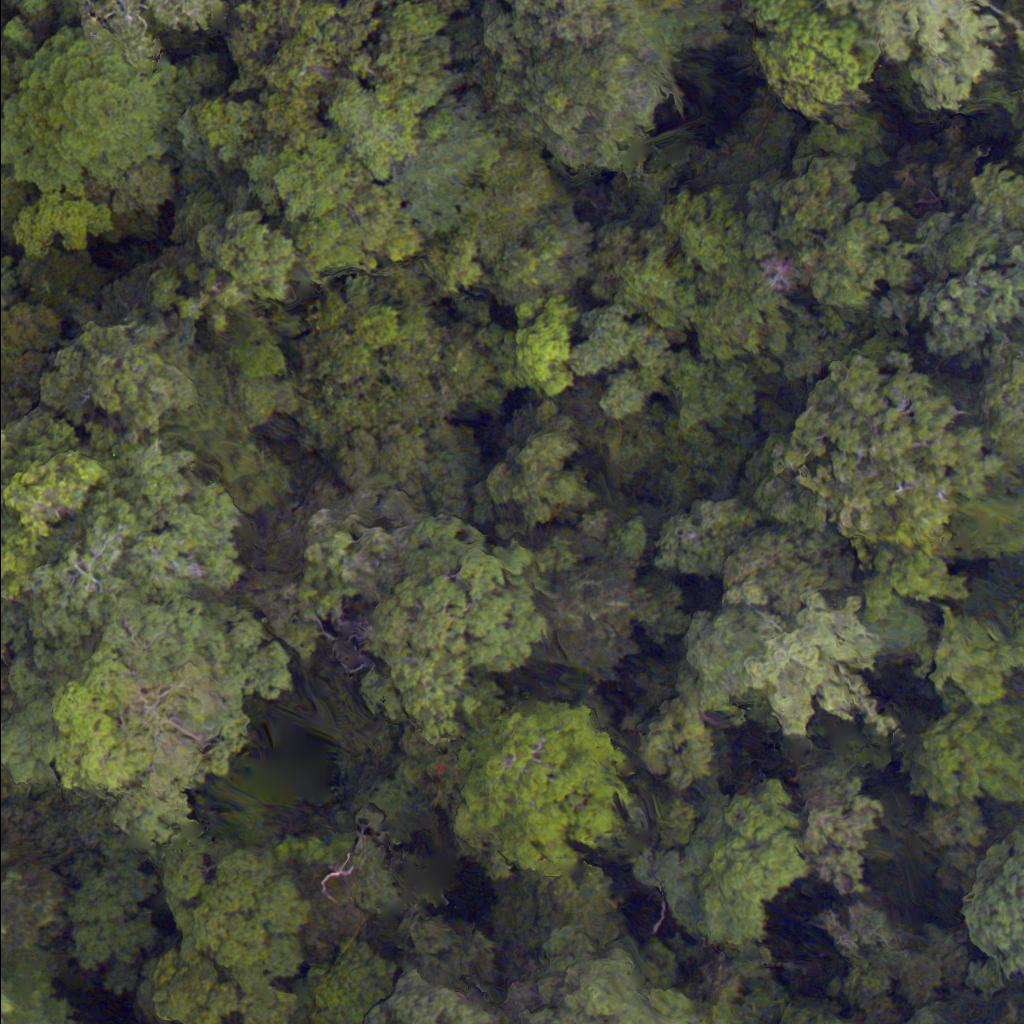crown: (314, 526, 549, 754), (627, 761, 816, 974), (799, 350, 973, 576), (454, 674, 632, 885), (136, 832, 321, 1023), (839, 0, 1023, 132), (724, 0, 881, 122)
